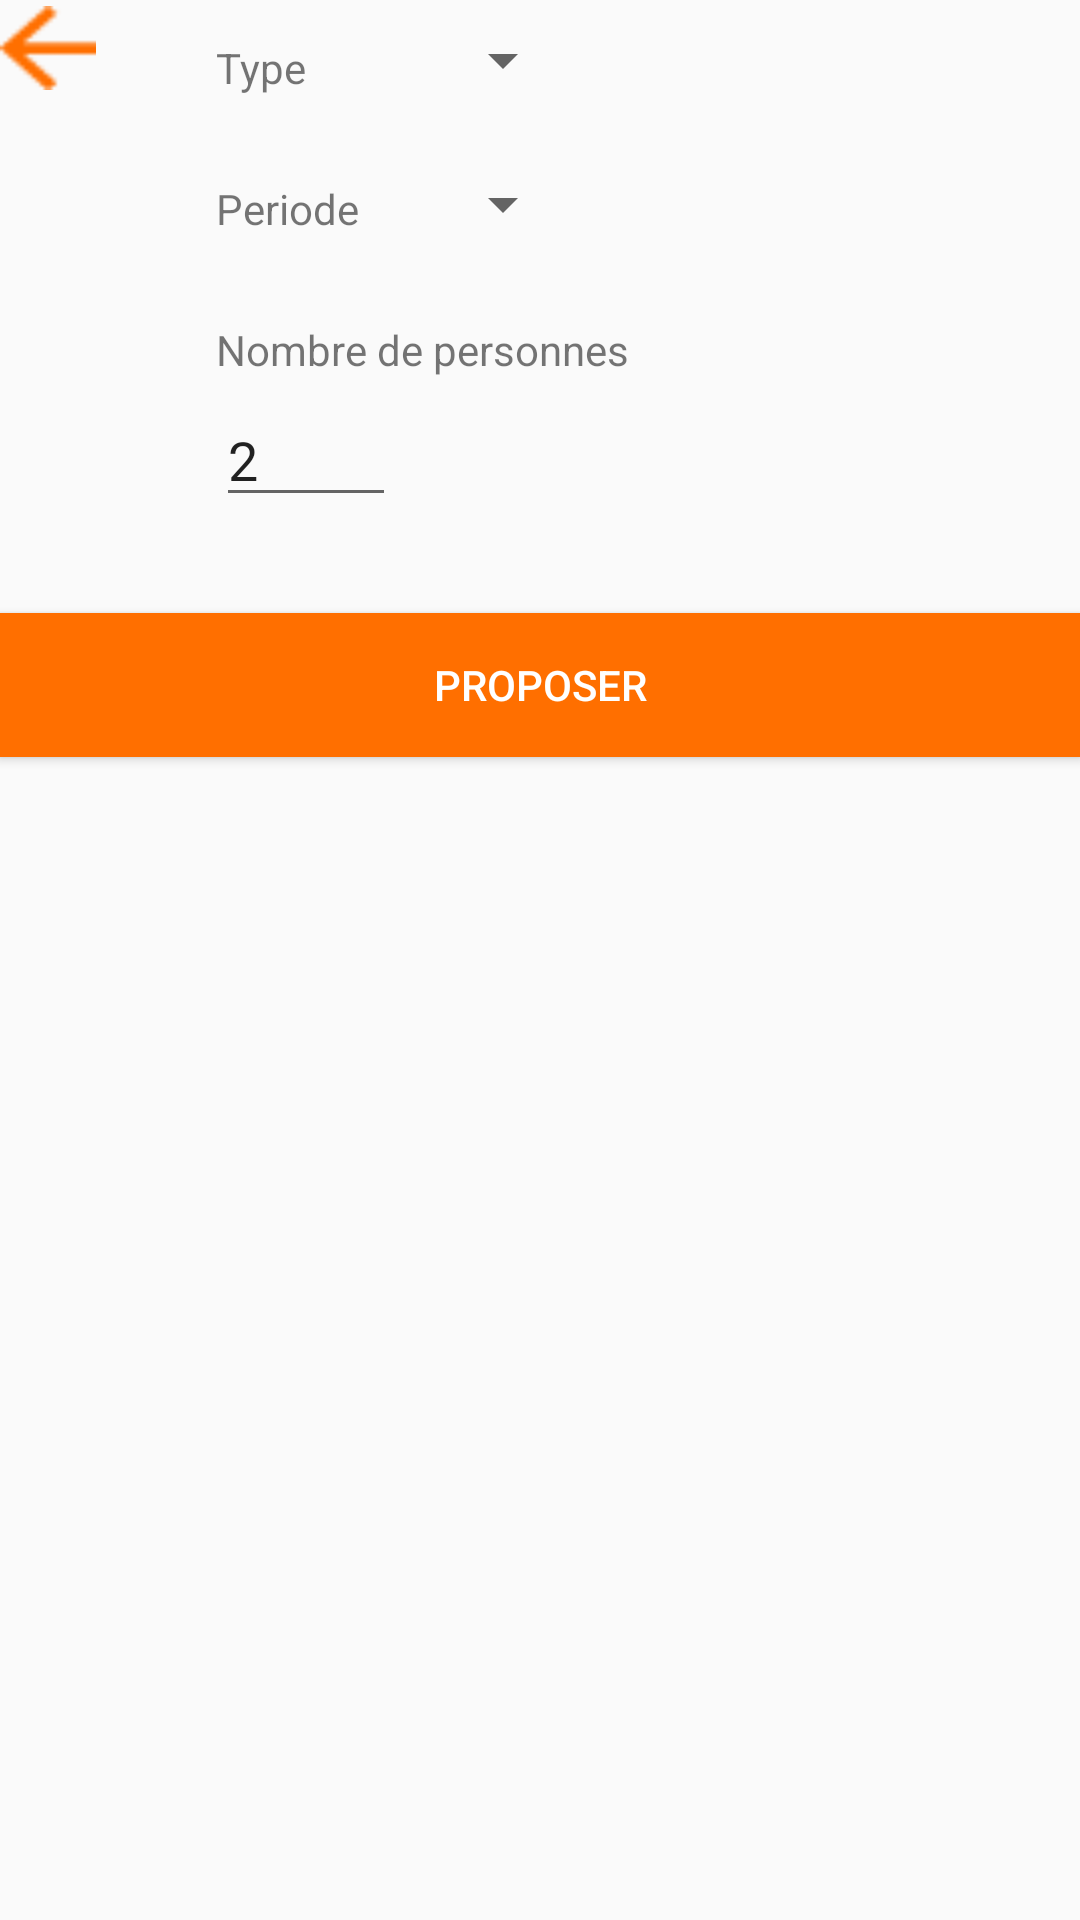

Icons on this 1080w x 1920h Android screen, each with the point to tap as [x,y]:
backward arrow: [48,48]
